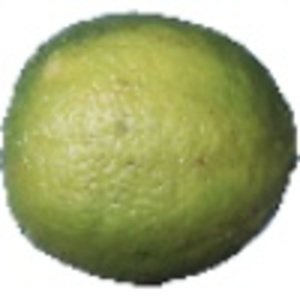limão: (1, 12, 300, 287)
